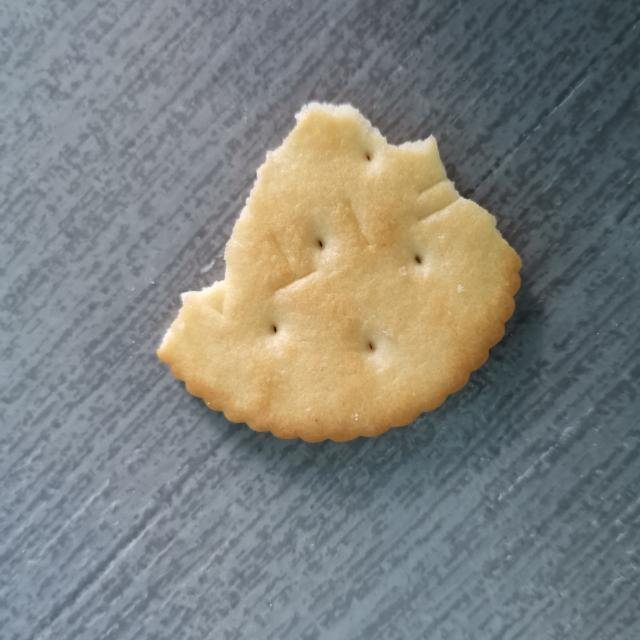Broken: (156, 100, 523, 444)
